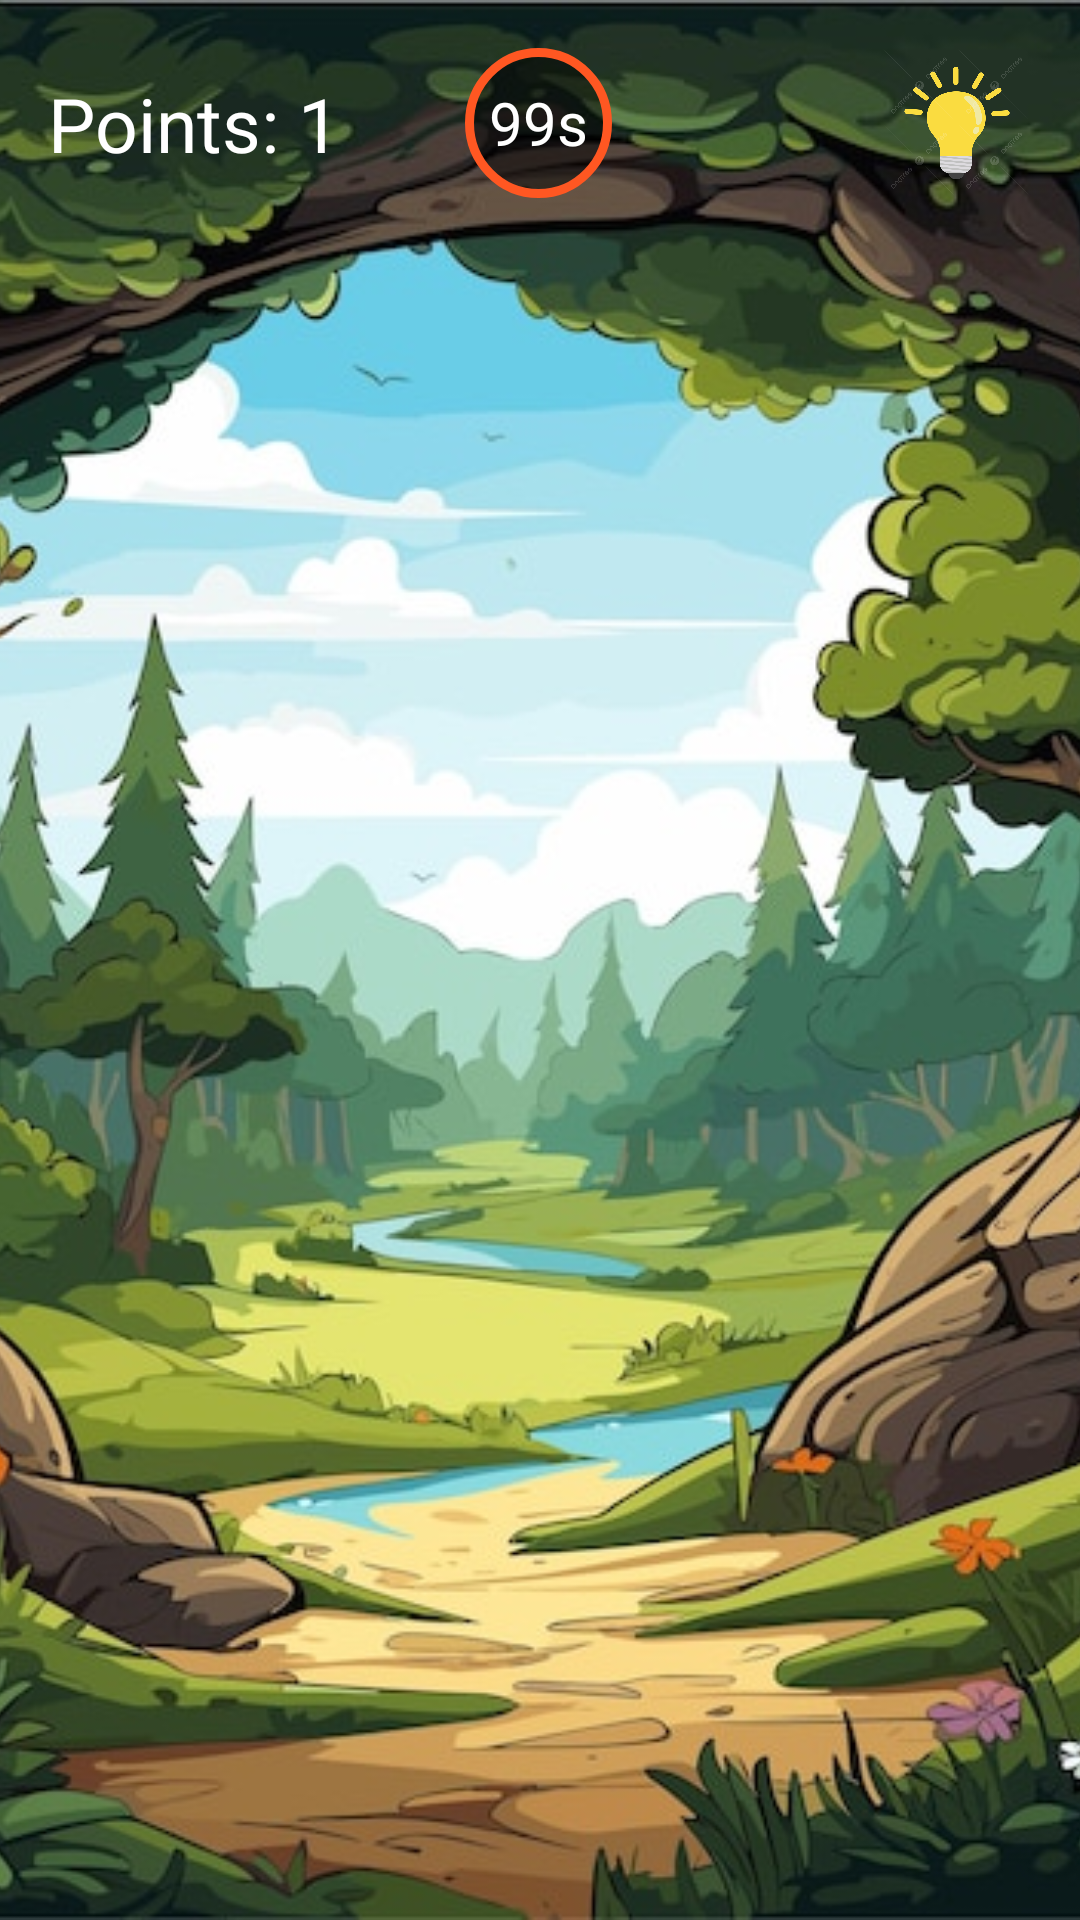

Point at icon controls on the screen. Image size 1080 x 1920, points as (x,y).
hint: (957,128)
